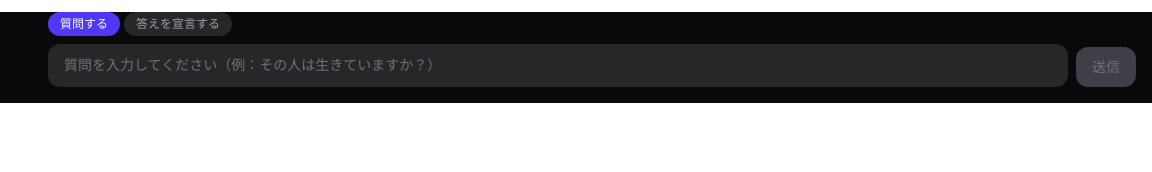
it: MessageInput — モード切り替え › 「答えを宣言する」をクリックするとプレースホルダーが答え宣言用になる
Click the button "答えを宣言する": (178, 24) left=124, top=12, right=232, bottom=36
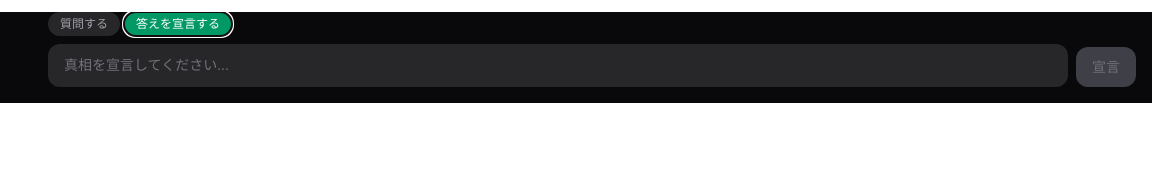
Check: the text box with placeholder "真相を宣言してください..." is shown, box left=48, top=44, right=1068, bottom=87
